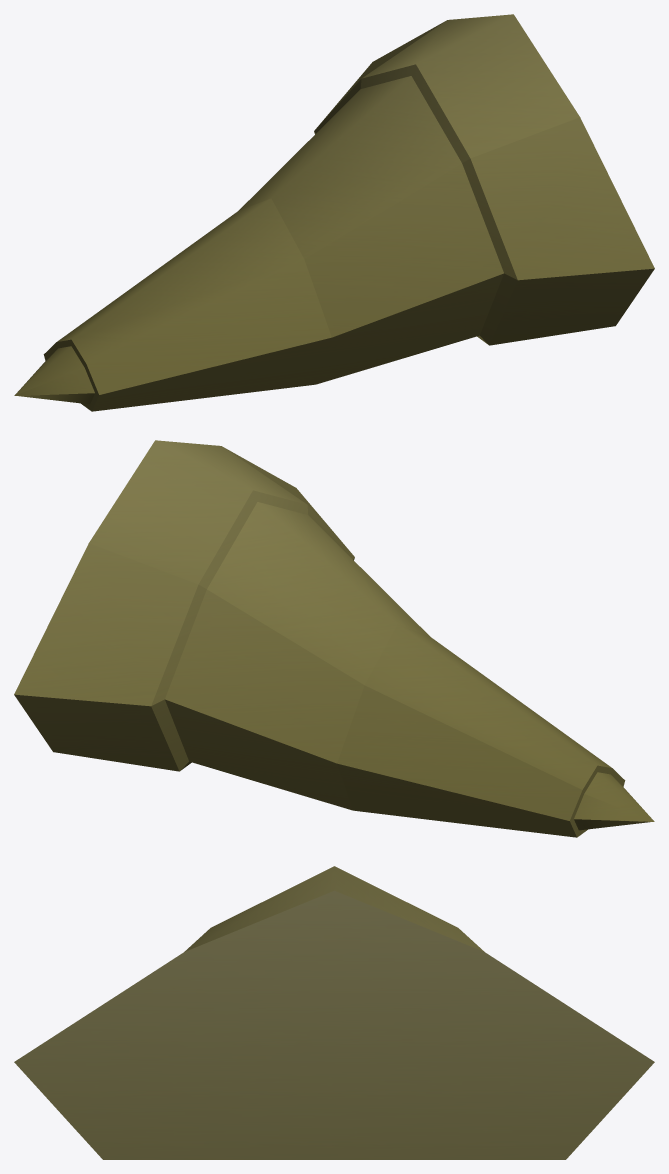
File: SM_Turtle_Tail.fbx
3 views of the same model, one above another, from view 1: azimuth 30°, elevation 25°; view 2: azimuth 150°, elevation 25°; view 3: azimuth 270°, elevation 25° (orthographic). The views are drawn at different scales.
Visible parts, largest first — view 1: SM_Turtle_Tail; view 2: SM_Turtle_Tail; view 3: SM_Turtle_Tail.
Part boxes in pixels (bbox=[...]): SM_Turtle_Tail: bbox=[14, 14, 654, 411]; SM_Turtle_Tail: bbox=[14, 440, 654, 837]; SM_Turtle_Tail: bbox=[14, 866, 654, 1159].
Size of the model in its own units: 9.47 by 5.04 by 9.26.
